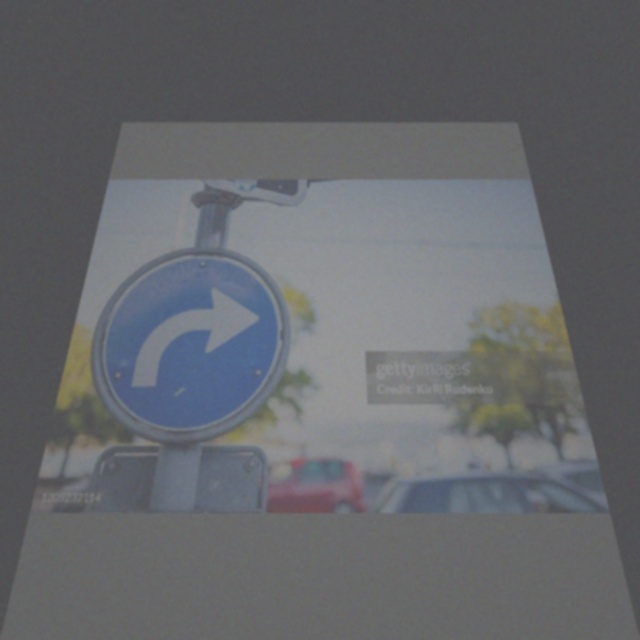Compulsory_Turn_Right_Ahead: (80, 249, 287, 437)
